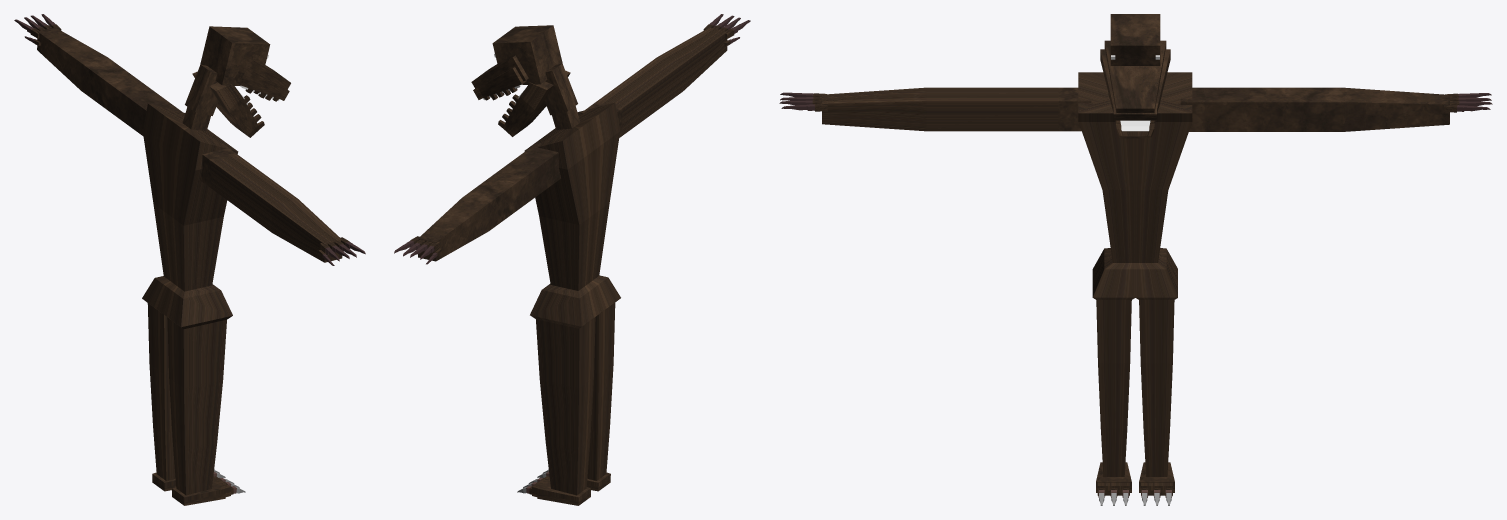
Rendered from cave dweller1.fbx.
3 views of the same model, side by side, from view 1: azimuth 30°, elevation 25°; view 2: azimuth 150°, elevation 25°; view 3: azimuth 270°, elevation 25° (orthographic). The views are drawn at different scales.
Parts seen in each view (by area): view 1: Cube.006, Cube.008, Cube.007, Cube, Cube.003, Cube.005, Cube.002, Cube.050, Cube.001; view 2: Cube.006, Cube.007, Cube.008, Cube, Cube.003, Cube.005, Cube.002, Cube.009, Cube.001; view 3: Cube.006, Cube.007, Cube.008, Cube, Cube.001, Cube.002.
Boxes of the visible parts, <box> form: Cube.006: <box>142,103,238,495</box>; Cube.008: <box>200,143,342,262</box>; Cube.007: <box>37,27,183,136</box>; Cube: <box>200,26,270,85</box>; Cube.003: <box>192,71,264,137</box>; Cube.005: <box>185,64,218,115</box>; Cube.002: <box>236,68,289,101</box>; Cube.050: <box>172,476,230,505</box>; Cube.001: <box>234,56,290,89</box>; Cube.006: <box>524,102,620,495</box>; Cube.007: <box>418,142,560,261</box>; Cube.008: <box>581,27,727,137</box>; Cube: <box>492,25,562,84</box>; Cube.003: <box>498,70,570,136</box>; Cube.005: <box>544,63,577,115</box>; Cube.002: <box>473,67,526,100</box>; Cube.009: <box>532,476,590,505</box>; Cube.001: <box>471,55,528,88</box>; Cube.006: <box>1078,72,1192,476</box>; Cube.007: <box>1180,87,1449,131</box>; Cube.008: <box>822,87,1091,131</box>; Cube: <box>1110,14,1160,65</box>; Cube.001: <box>1104,40,1166,112</box>; Cube.002: <box>1100,49,1170,120</box>.
Size of the model in its own units: 59.22 by 210 by 278.
